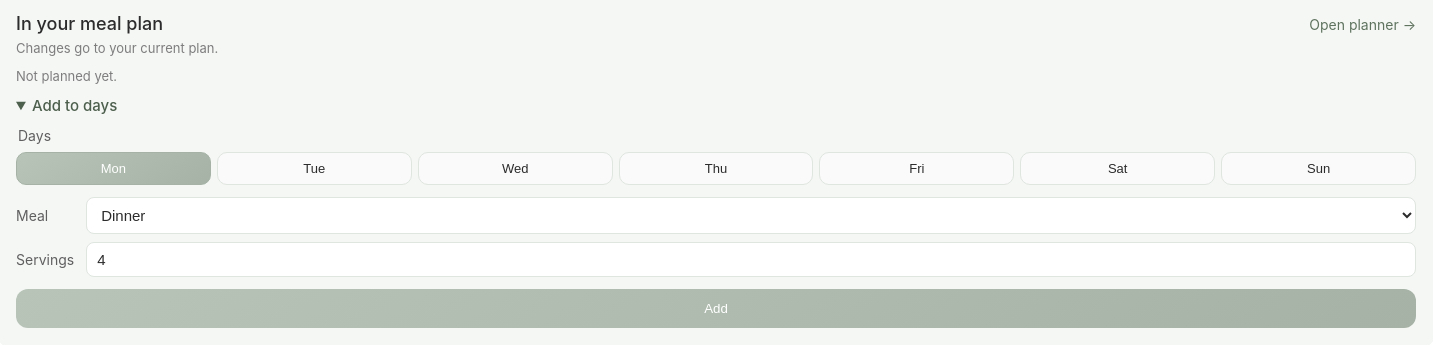
Test case: a recipe that is not planned offers to add it
Expected: the text "Not planned yet." is shown, x1=16 y1=68 x2=117 y2=84
Click the button with aria-label "Monday": (113, 168) x1=16 y1=152 x2=211 y2=185
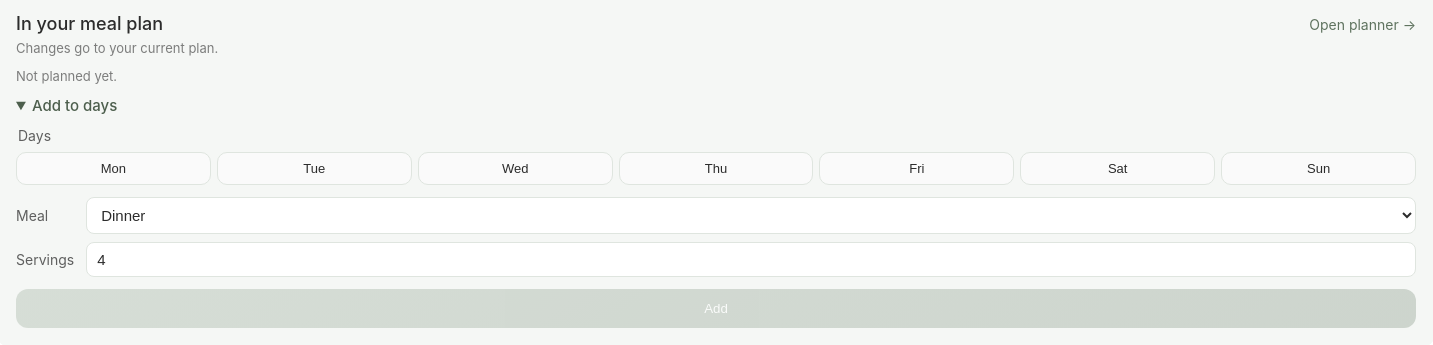
Click the button with aria-label "Wednesday": (515, 168) x1=418 y1=152 x2=613 y2=185
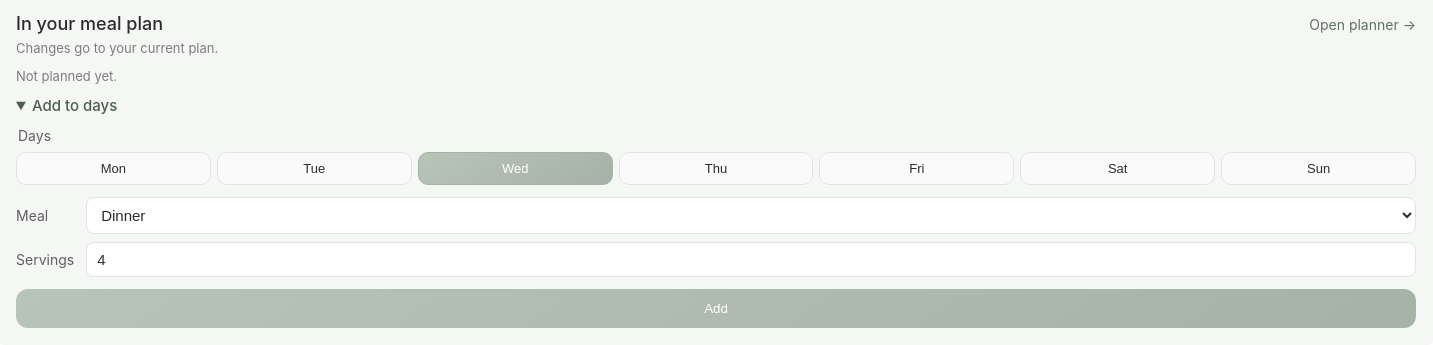
Click the button with aria-label "Friday": (917, 168) x1=819 y1=152 x2=1014 y2=185
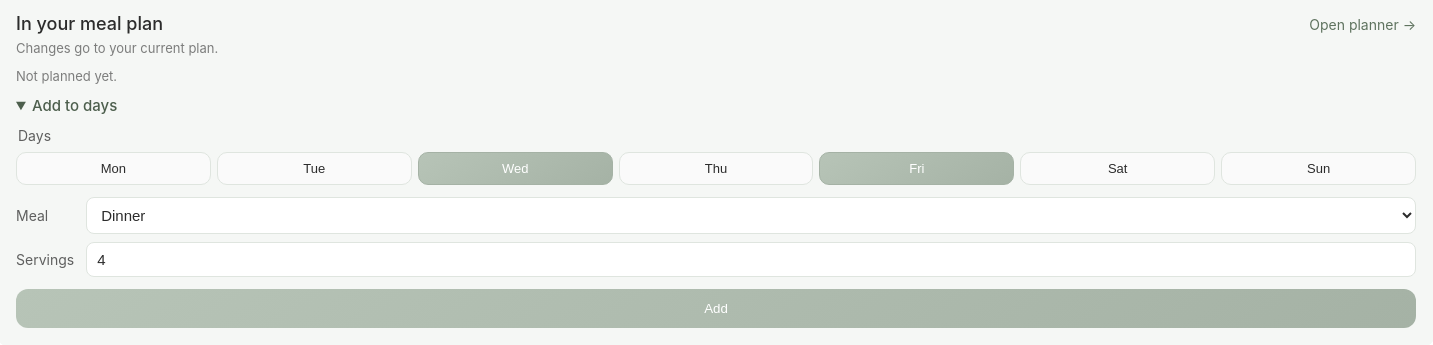
Click the button "Add": (716, 308) x1=16 y1=289 x2=1416 y2=328
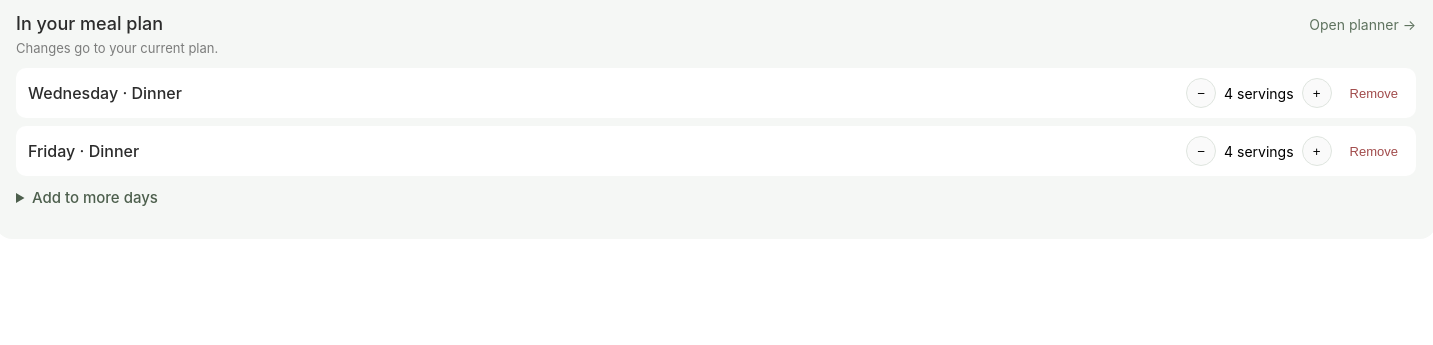
Now the text "Wednesday · Dinner" is shown, box x1=28 y1=83 x2=182 y2=103
Now the text "Friday · Dinner" is shown, box x1=28 y1=141 x2=139 y2=161
